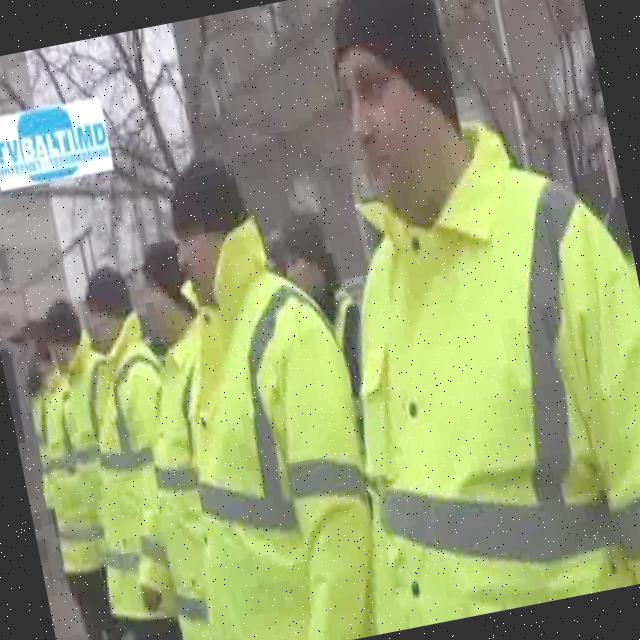vest: (284, 89, 640, 635), (129, 197, 401, 640), (54, 306, 202, 634), (121, 316, 262, 640), (40, 330, 142, 585), (27, 368, 94, 578)
